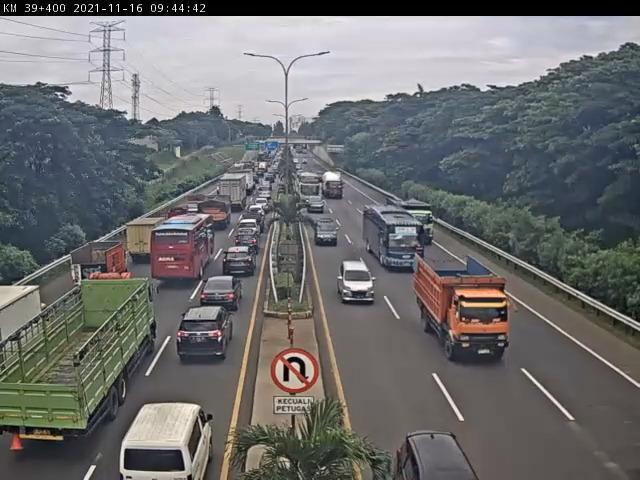bus: (153, 216, 215, 280), (364, 210, 420, 273)
car: (120, 403, 215, 480), (176, 309, 232, 362), (339, 260, 375, 303), (201, 276, 242, 311), (222, 249, 254, 281), (314, 220, 342, 246), (234, 232, 261, 252), (237, 217, 262, 238)
truck: (1, 282, 157, 447), (418, 250, 513, 364), (68, 245, 127, 286), (390, 197, 437, 246), (125, 219, 163, 263), (196, 201, 232, 231)
